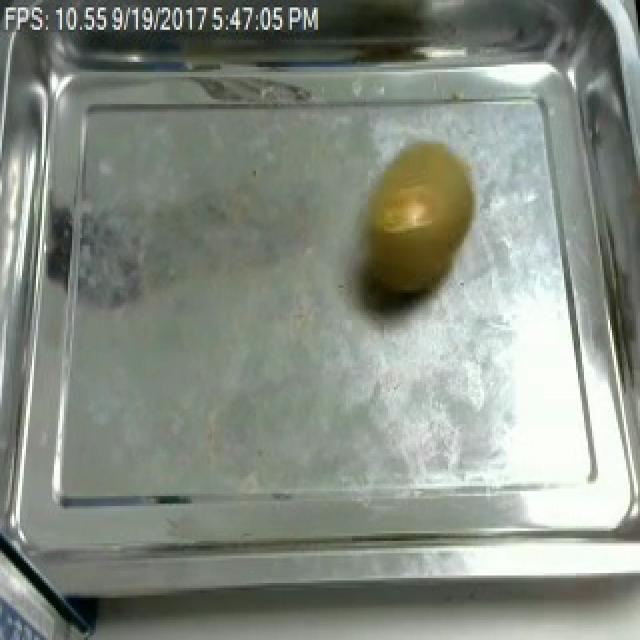Fruit: (350, 129, 492, 310)
